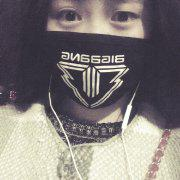OK: (49, 4, 155, 110)
